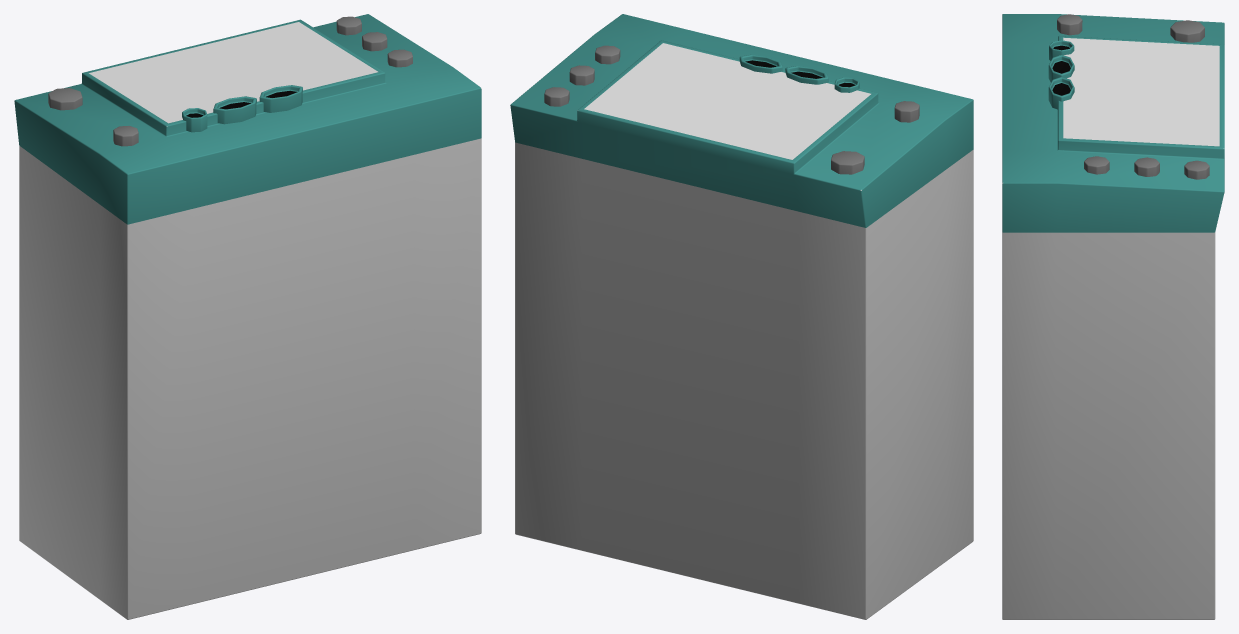
3 renders of one model, left to right at view 1: azimuth 30°, elevation 25°; view 2: azimuth 150°, elevation 25°; view 3: azimuth 270°, elevation 25°, orthographic. The views are drawn at different scales.
Visible parts, largest first — view 1: Cube; view 2: Cube; view 3: Cube.
Boxes of the visible parts, box(x1,y1,x2,y2) form: Cube: box(14, 14, 481, 619); Cube: box(510, 14, 973, 619); Cube: box(1002, 14, 1224, 619).
Size of the model in its own units: 32 by 39.82 by 17.76.
